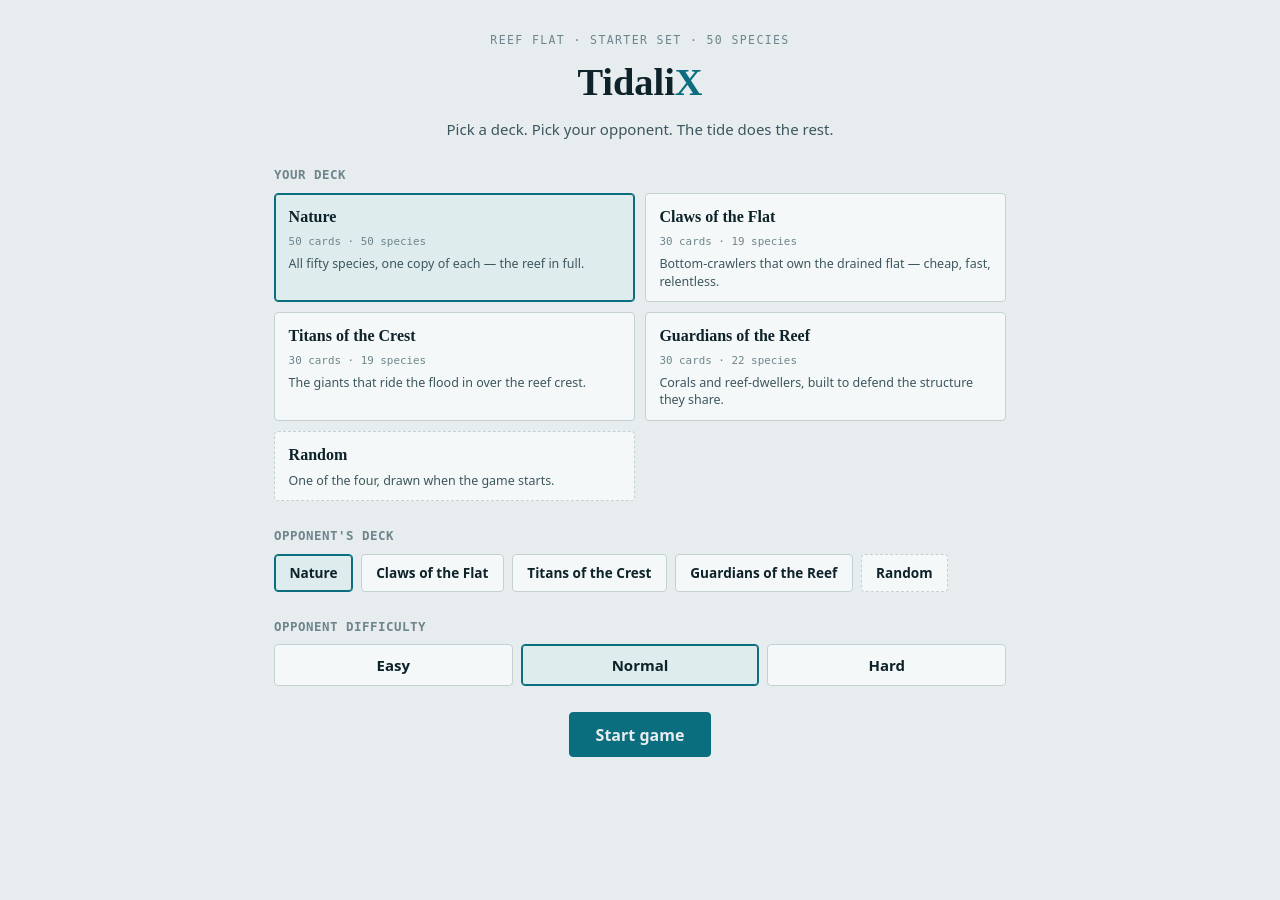
client › states the conservation boost as a standing rate, not a footnote
(page scrolled)
Step 1. Click the button with class "setup__start" → [640, 735], box [569, 712, 711, 757]
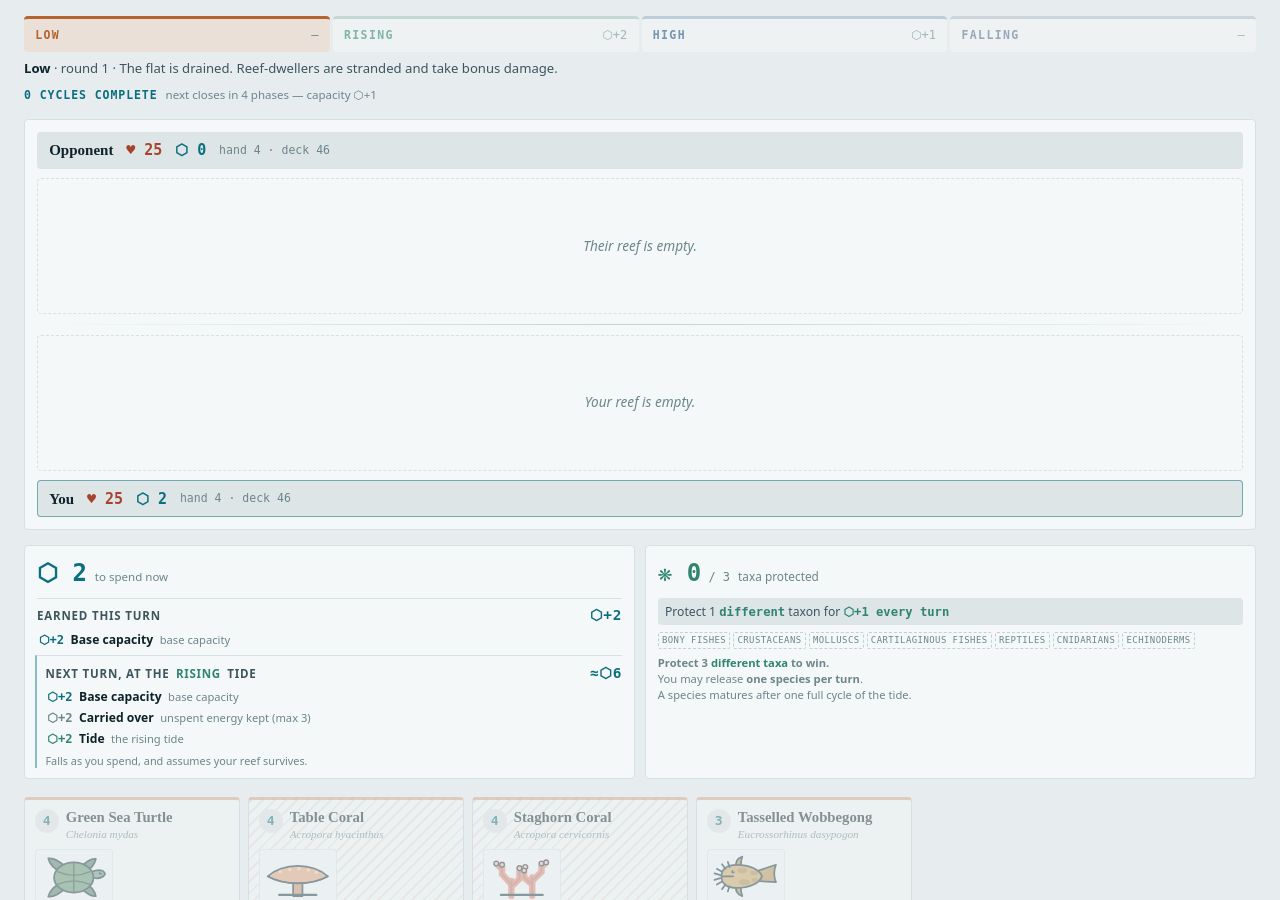
expect the element with class "conserve__boost" is shown: met, box [658, 598, 1243, 626]
expect the element with class "conserve__boost" shows "⬡+1 every turn": met, box [844, 605, 949, 619]
